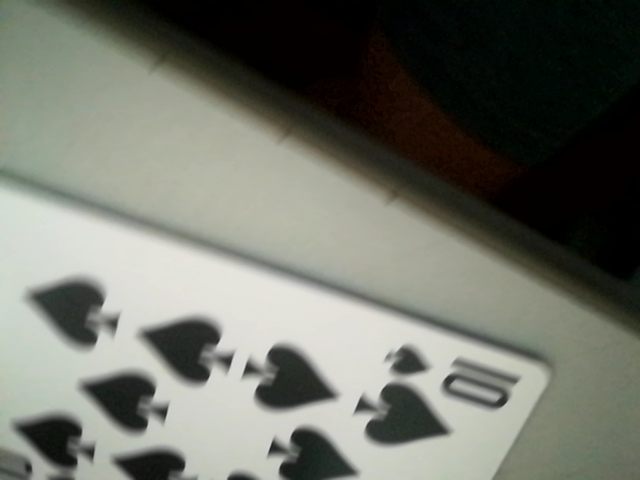ht 10: (376, 338, 547, 407)
